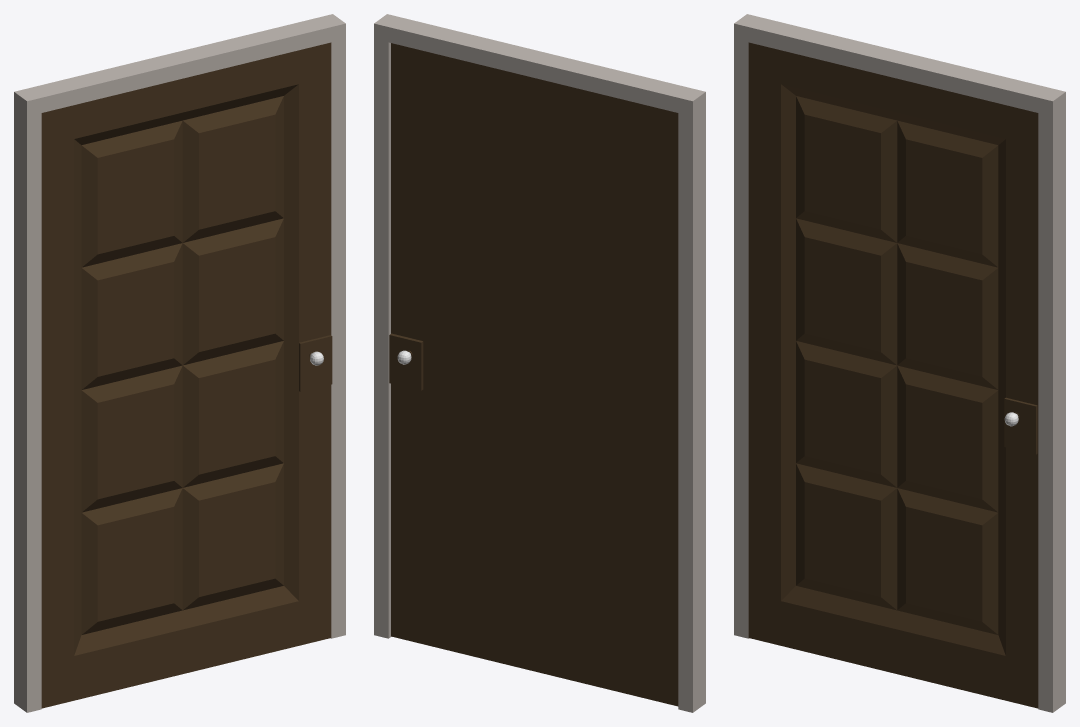
The model's file is Puerta.fbx.
3 views of the same model, side by side, from view 1: azimuth 30°, elevation 25°; view 2: azimuth 150°, elevation 25°; view 3: azimuth 330°, elevation 25° (orthographic).
Visible parts, largest first — view 1: Puerta, Marco; view 2: Puerta, Marco; view 3: Puerta, Marco.
Boxes of the visible parts, box(x1,y1,x2,y2) form: Puerta: box(41, 42, 332, 708); Marco: box(14, 14, 345, 712); Puerta: box(389, 43, 678, 706); Marco: box(374, 14, 705, 712); Puerta: box(748, 42, 1038, 708); Marco: box(734, 14, 1065, 712).
Bounding box in the file's own units: 600 × 1100 × 100.
